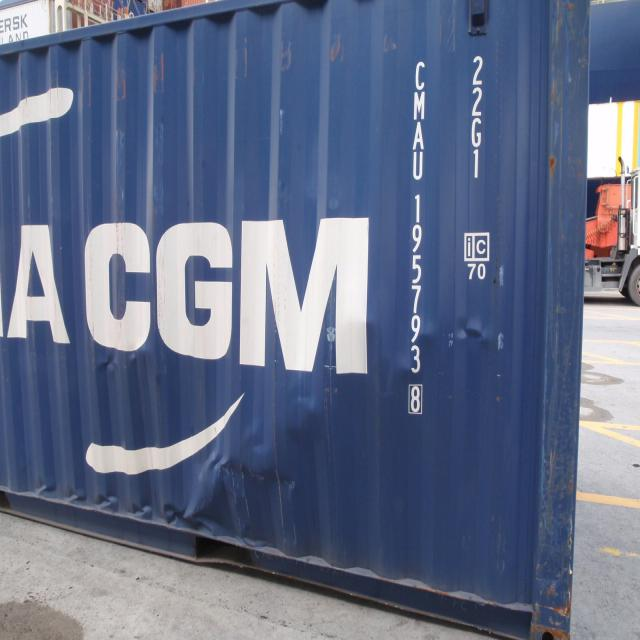dent: (454, 324, 492, 351), (94, 352, 116, 376)
